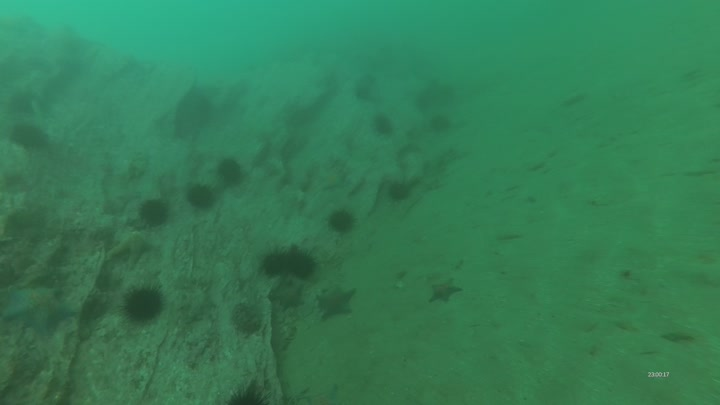echinus: (114, 281, 168, 325), (287, 244, 320, 281), (10, 121, 51, 150), (224, 383, 276, 405), (137, 198, 170, 229), (261, 247, 291, 281), (327, 207, 361, 236), (186, 184, 216, 211), (219, 160, 246, 189), (387, 180, 412, 203), (374, 113, 395, 138), (430, 112, 451, 134)
starfish: (1, 285, 81, 342), (102, 224, 165, 273), (316, 286, 358, 322), (428, 277, 465, 306), (275, 281, 307, 313), (317, 166, 351, 193)
